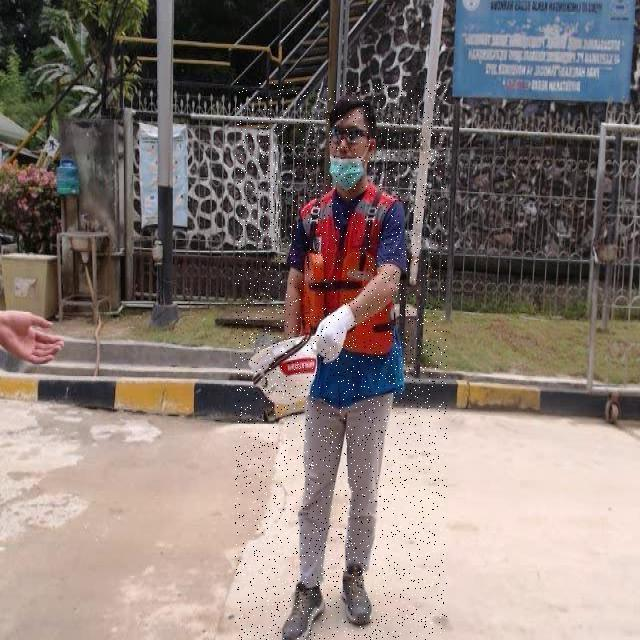gloves: (313, 302, 357, 365)
goggles: (328, 126, 365, 146)
helmet: (249, 334, 316, 406)
safety_vest: (295, 185, 406, 410)
